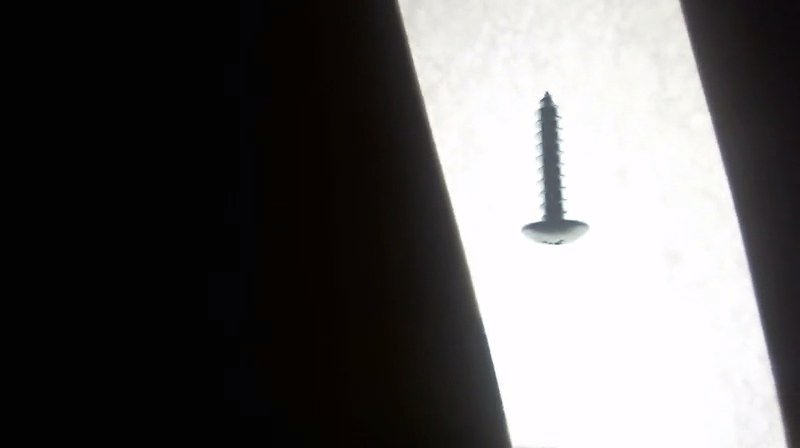S003: (517, 88, 592, 250)
